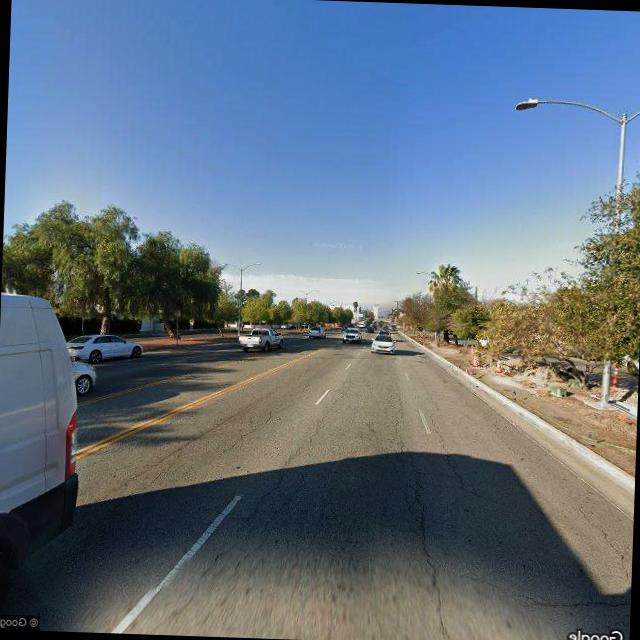pothole: (391, 397, 469, 640), (204, 448, 304, 570), (576, 500, 634, 601), (225, 391, 298, 450)
